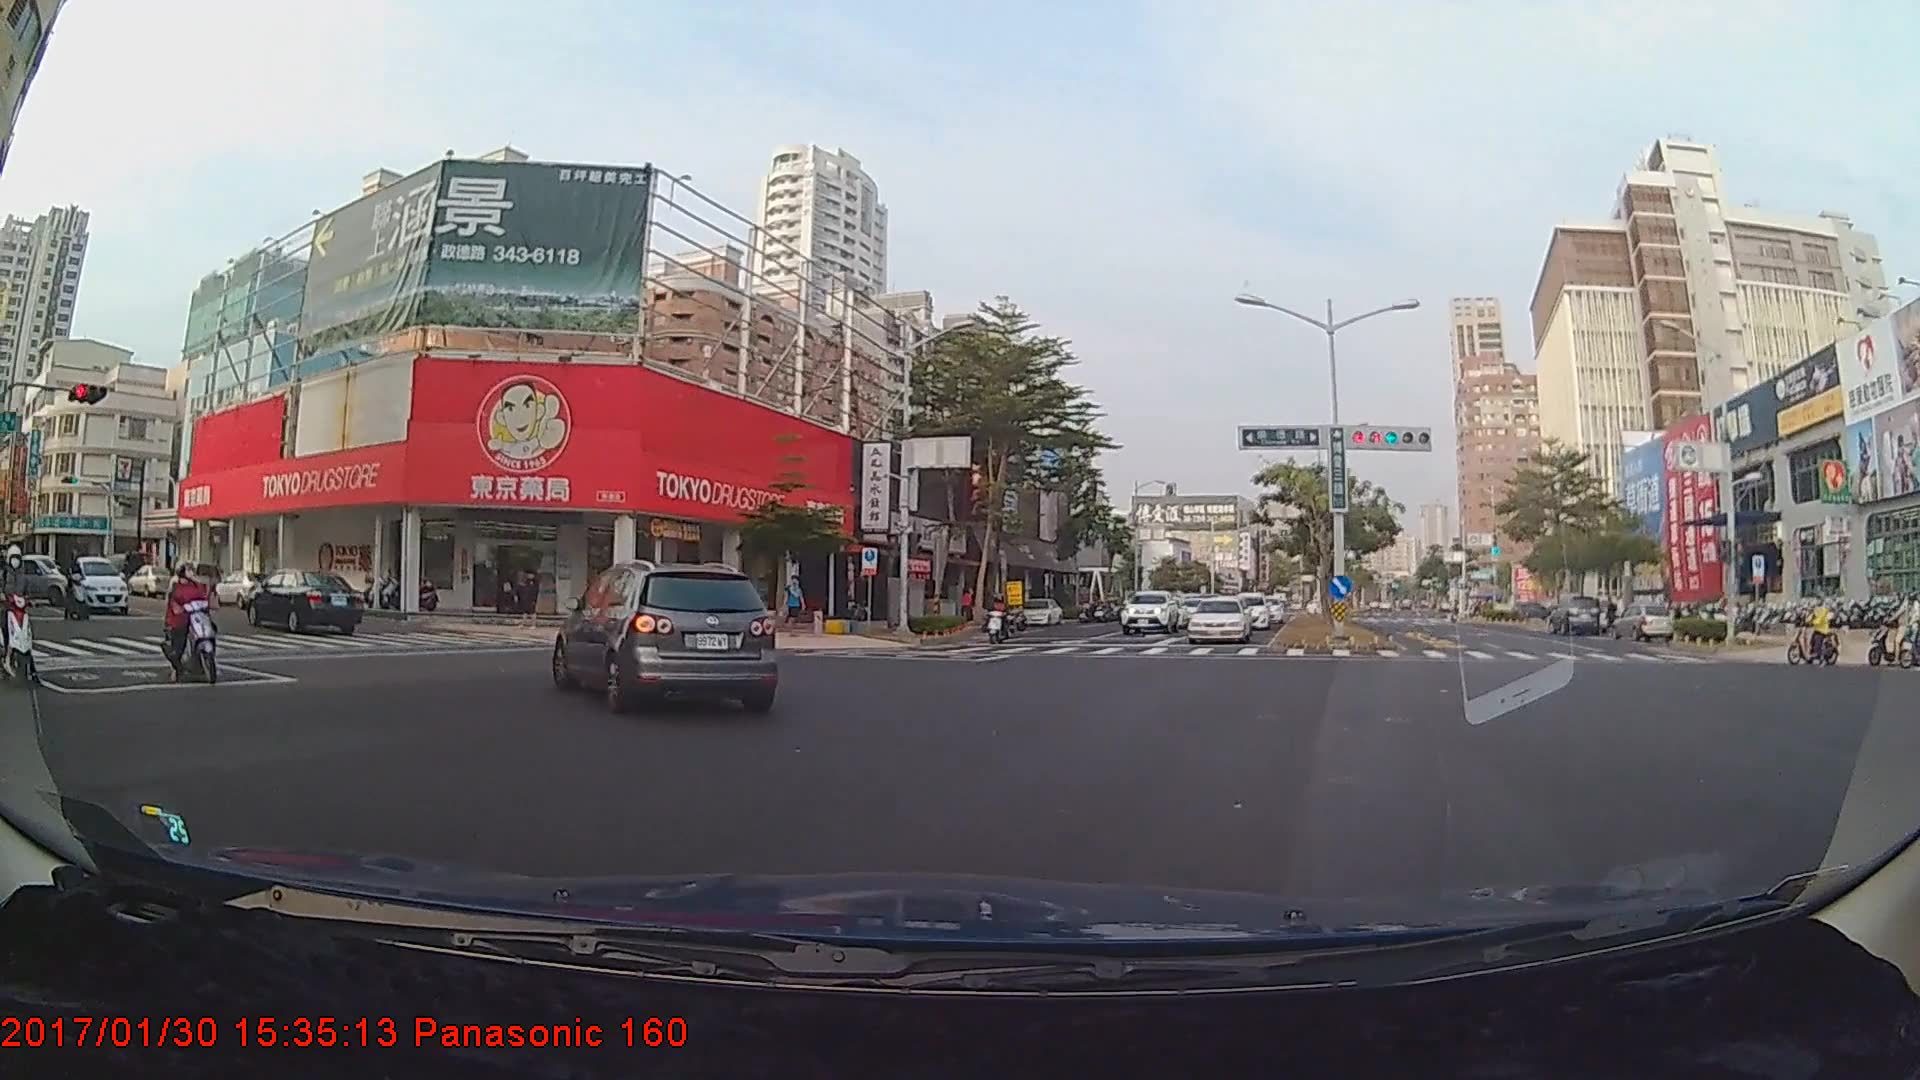pedestrian: (783, 572, 807, 643)
rider: (162, 561, 228, 684), (57, 545, 95, 625), (985, 586, 1016, 642)
vehicle: (554, 560, 775, 714), (247, 569, 364, 637), (67, 555, 130, 612), (1184, 594, 1247, 641), (1120, 587, 1178, 634), (1545, 593, 1601, 635), (1226, 590, 1270, 630), (1001, 601, 1035, 626)
